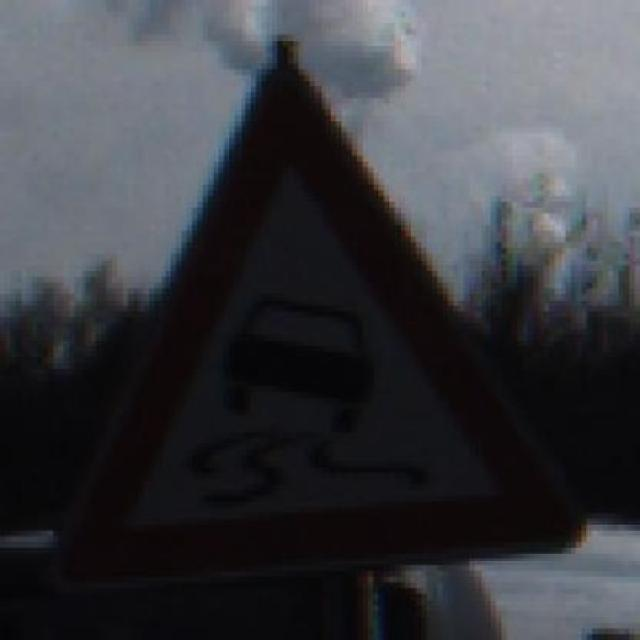Slippery Road Ahead: (38, 40, 587, 582)
